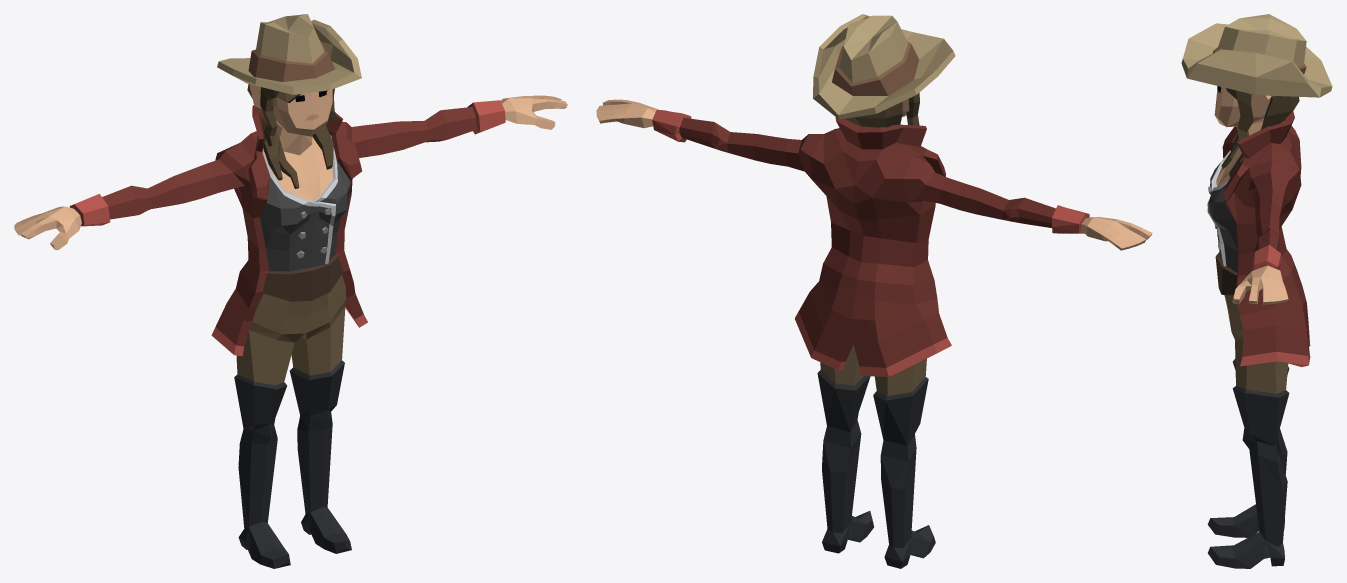
File: cowgirl.fbx
3 views of the same model, side by side, from view 1: azimuth 30°, elevation 25°; view 2: azimuth 150°, elevation 25°; view 3: azimuth 270°, elevation 25° (orthographic).
Parts seen in each view (by area): view 1: Character_Cowgirl_01_0; view 2: Character_Cowgirl_01_0; view 3: Character_Cowgirl_01_0.
Part boxes in pixels (x1,y1,x2,y2): Character_Cowgirl_01_0: (14,14,567,568); Character_Cowgirl_01_0: (596,14,1152,568); Character_Cowgirl_01_0: (1181,14,1332,568).
Size of the model in its own units: 204 by 187 by 48.96.
